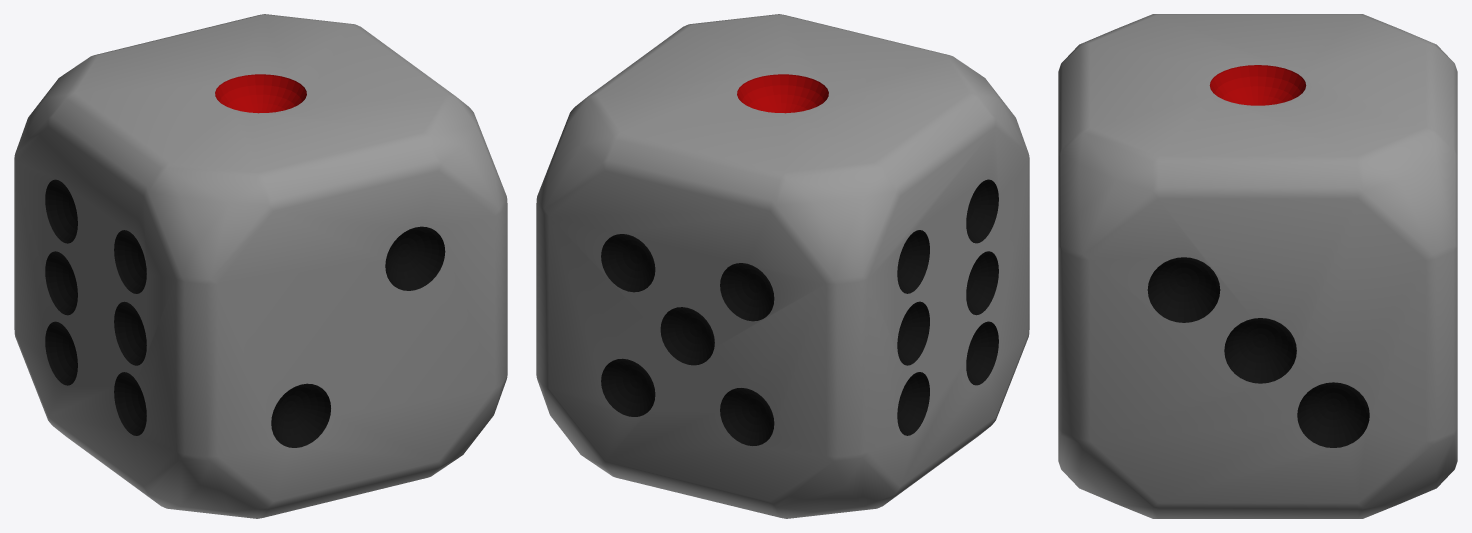
Rendered from Dice_001.FBX.
3 views of the same model, side by side, from view 1: azimuth 30°, elevation 25°; view 2: azimuth 150°, elevation 25°; view 3: azimuth 270°, elevation 25° (orthographic). The views are drawn at different scales.
Parts seen in each view (by area): view 1: Dice_001; view 2: Dice_001; view 3: Dice_001.
Part boxes in pixels (box(x1,y1,x2,y2)): Dice_001: box(14, 14, 507, 518); Dice_001: box(536, 14, 1029, 518); Dice_001: box(1058, 14, 1457, 518).
Bounding box in the file's own units: 6.5 × 6.5 × 6.5.
